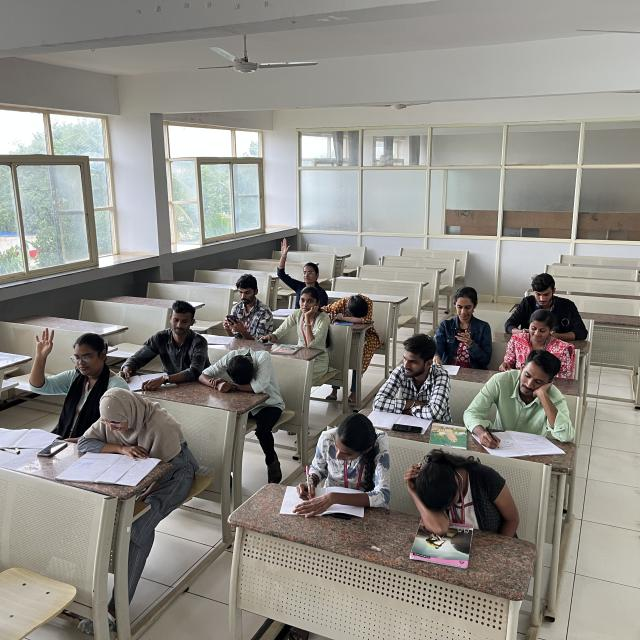Hand Rising: (18, 310, 114, 433), (260, 223, 336, 306)
Reading: (81, 388, 188, 477), (491, 314, 585, 376)
Sleeping: (382, 437, 518, 530), (204, 341, 292, 410), (327, 278, 384, 327)
Using Phone: (492, 257, 610, 344), (436, 266, 491, 368), (209, 264, 273, 338), (260, 294, 327, 348)
Writing: (282, 399, 398, 569), (449, 353, 574, 450), (109, 305, 215, 397)
